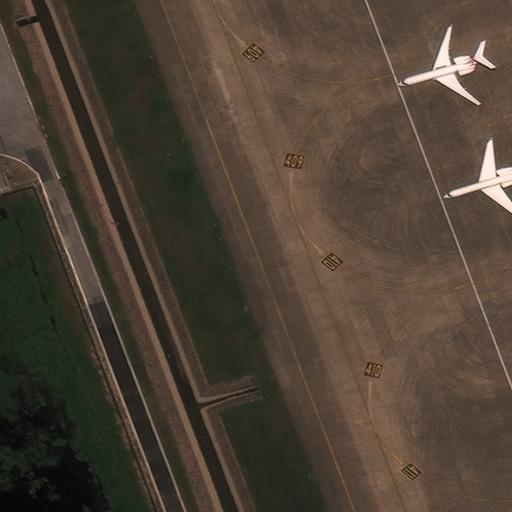Medium Civil Transport: (393, 28, 484, 107), (441, 143, 512, 215)
